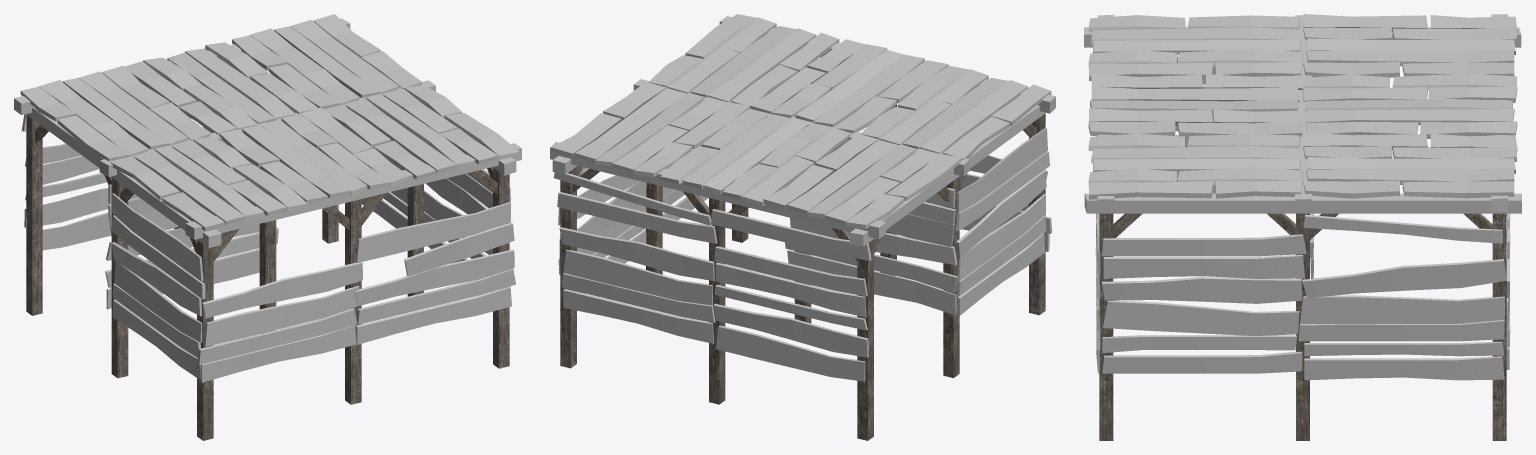
File: Shed5.fbx
The picture shows the model from 3 angles, left to right: view 1: azimuth 30°, elevation 25°; view 2: azimuth 150°, elevation 25°; view 3: azimuth 270°, elevation 25°; orthographic projection. The views are drawn at different scales.
Parts seen in each view (by area): view 1: polySurface2649; view 2: polySurface2649; view 3: polySurface2649.
Part boxes in pixels (x1=…): polySurface2649: x1=14, y1=14, x2=521, y2=440; polySurface2649: x1=550, y1=14, x2=1055, y2=440; polySurface2649: x1=1084, y1=14, x2=1521, y2=440.
Size of the model in its own units: 7.08 by 4.5 by 7.08.
